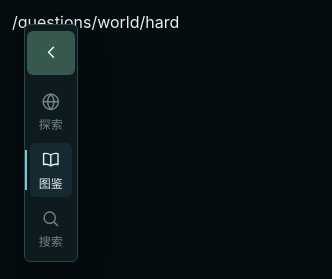
AppNavigation brand › returns from a challenge to its selected difficulty
Click the button named "返回上一级" at x=51, y=53, box [27,31,75,75]
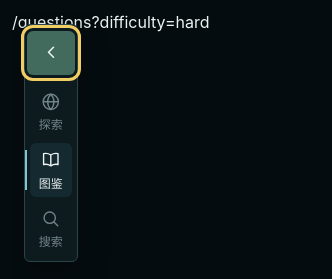
Check: the text with test id "location" reads "/questions?difficulty=hard", box [12,12,210,32]
